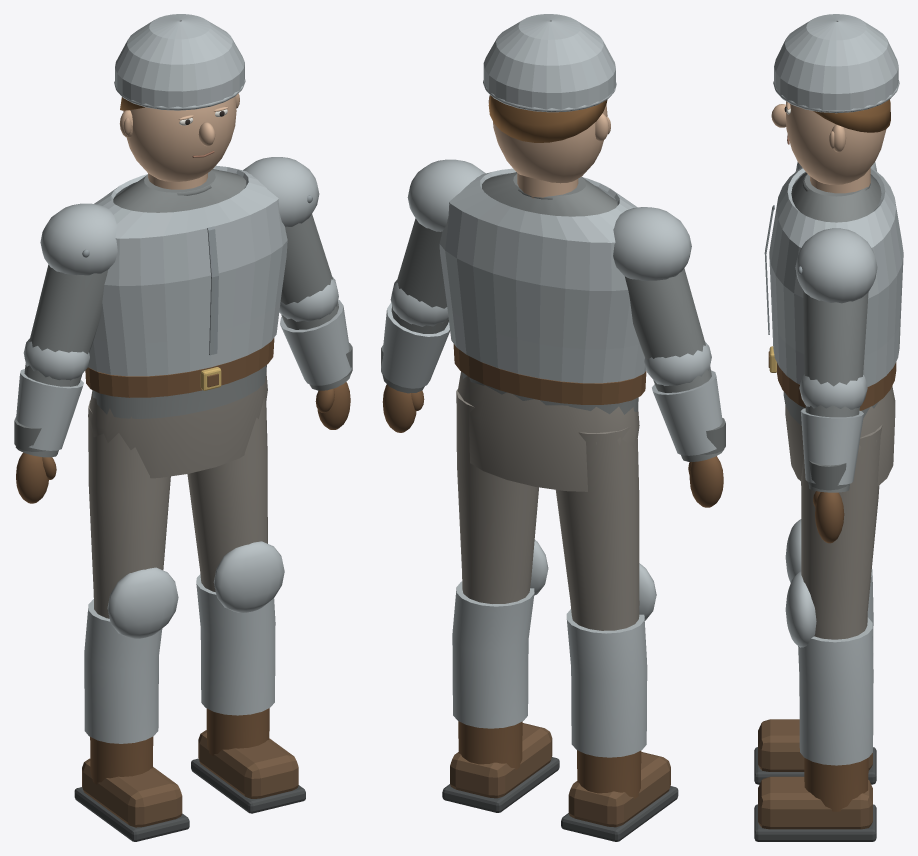
File: soldier_medieval_1.glb
3 renders of one model, left to right at view 1: azimuth 30°, elevation 25°; view 2: azimuth 150°, elevation 25°; view 3: azimuth 270°, elevation 25°, orthographic.
Parts seen in each view (by area): view 1: Medieval_Soldier_1_Medieval_Breastplate, Medieval_Soldier_1_Trouser_Leg, Medieval_Soldier_1_Open_Face_Helmet, Medieval_Soldier_1_Metal_Shin_Guard, Medieval_Soldier_1_Connected_Hip_Garment, Medieval_Soldier_1_Metal_Shin_Guard.001, Medieval_Soldier_1_Trouser_Leg.001, Medieval_Soldier_1_Torso_And_Main_Clothes, Medieval_Soldier_1_Head, Medieval_Soldier_1_Long_Sleeve, Medieval_Soldier_1_Rounded_Shoulder_Armor, Medieval_Soldier_1_Shoe_Upper (+17 smaller); view 2: Medieval_Soldier_1_Medieval_Breastplate, Medieval_Soldier_1_Trouser_Leg, Medieval_Soldier_1_Connected_Hip_Garment, Medieval_Soldier_1_Trouser_Leg.001, Medieval_Soldier_1_Open_Face_Helmet, Medieval_Soldier_1_Metal_Shin_Guard, Medieval_Soldier_1_Metal_Shin_Guard.001, Medieval_Soldier_1_Long_Sleeve, Medieval_Soldier_1_Rounded_Shoulder_Armor, Medieval_Soldier_1_Waist_Belt, Medieval_Soldier_1_Torso_And_Main_Clothes, Medieval_Soldier_1_Head (+18 smaller); view 3: Medieval_Soldier_1_Medieval_Breastplate, Medieval_Soldier_1_Trouser_Leg.001, Medieval_Soldier_1_Open_Face_Helmet, Medieval_Soldier_1_Metal_Shin_Guard.001, Medieval_Soldier_1_Long_Sleeve.001, Medieval_Soldier_1_Rounded_Shoulder_Armor.001, Medieval_Soldier_1_Head, Medieval_Soldier_1_Shoe_Upper.001, Medieval_Soldier_1_Metal_Forearm_Guard.001, Medieval_Soldier_1_Torso_And_Main_Clothes, Medieval_Soldier_1_Connected_Hip_Garment, Medieval_Soldier_1_High_Boot_Shaft.001 (+14 smaller).
Boxes of the visible parts, x1,y1,x2,y2 form: Medieval_Soldier_1_Medieval_Breastplate: (88,165,287,376); Medieval_Soldier_1_Trouser_Leg: (88,400,170,618); Medieval_Soldier_1_Open_Face_Helmet: (115,14,244,109); Medieval_Soldier_1_Metal_Shin_Guard: (84,599,162,743); Medieval_Soldier_1_Connected_Hip_Garment: (88,372,267,478); Medieval_Soldier_1_Metal_Shin_Guard.001: (196,574,275,715); Medieval_Soldier_1_Trouser_Leg.001: (187,398,267,592); Medieval_Soldier_1_Torso_And_Main_Clothes: (92,169,266,418); Medieval_Soldier_1_Head: (123,97,236,181); Medieval_Soldier_1_Long_Sleeve: (15,264,107,457); Medieval_Soldier_1_Rounded_Shoulder_Armor: (40,203,117,275); Medieval_Soldier_1_Shoe_Upper: (82,758,182,827); Medieval_Soldier_1_Medieval_Breastplate: (439,168,646,383); Medieval_Soldier_1_Trouser_Leg: (555,426,639,630); Medieval_Soldier_1_Connected_Hip_Garment: (456,371,639,491); Medieval_Soldier_1_Trouser_Leg.001: (456,389,538,603); Medieval_Soldier_1_Open_Face_Helmet: (483,14,615,111); Medieval_Soldier_1_Metal_Shin_Guard: (566,609,647,757); Medieval_Soldier_1_Metal_Shin_Guard.001: (452,581,534,728); Medieval_Soldier_1_Long_Sleeve: (625,268,724,461); Medieval_Soldier_1_Rounded_Shoulder_Armor: (613,207,691,280); Medieval_Soldier_1_Waist_Belt: (453,344,646,404); Medieval_Soldier_1_Torso_And_Main_Clothes: (462,172,638,414); Medieval_Soldier_1_Head: (493,104,607,183); Medieval_Soldier_1_Medieval_Breastplate: (769,167,903,386); Medieval_Soldier_1_Trouser_Leg.001: (801,425,882,639); Medieval_Soldier_1_Open_Face_Helmet: (774,14,898,111); Medieval_Soldier_1_Metal_Shin_Guard.001: (798,617,873,765); Medieval_Soldier_1_Long_Sleeve.001: (803,290,868,492); Medieval_Soldier_1_Rounded_Shoulder_Armor.001: (795,228,877,303); Medieval_Soldier_1_Head: (786,101,886,184); Medieval_Soldier_1_Shoe_Upper.001: (758,776,872,829); Medieval_Soldier_1_Metal_Forearm_Guard.001: (800,408,863,485); Medieval_Soldier_1_Torso_And_Main_Clothes: (783,172,881,424); Medieval_Soldier_1_Connected_Hip_Garment: (785,386,895,486); Medieval_Soldier_1_High_Boot_Shaft.001: (804,757,868,811).
Bounding box in the file's own units: 0.8485 × 1.88 × 0.3266.
